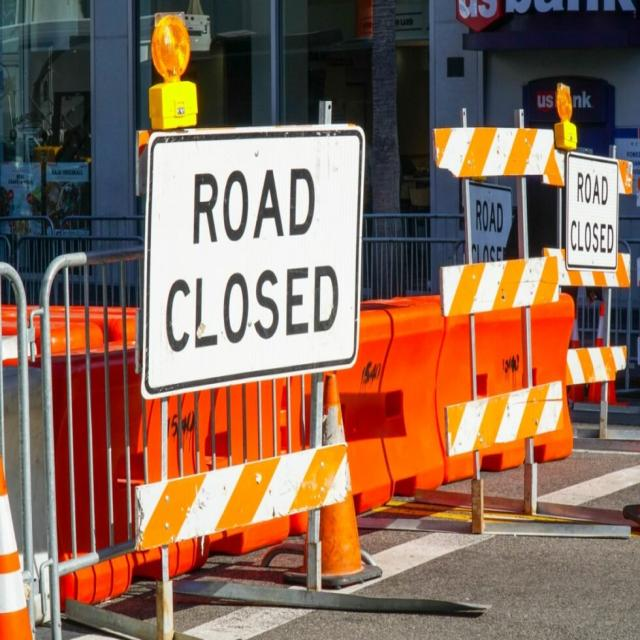cone: (1, 240, 630, 636)
